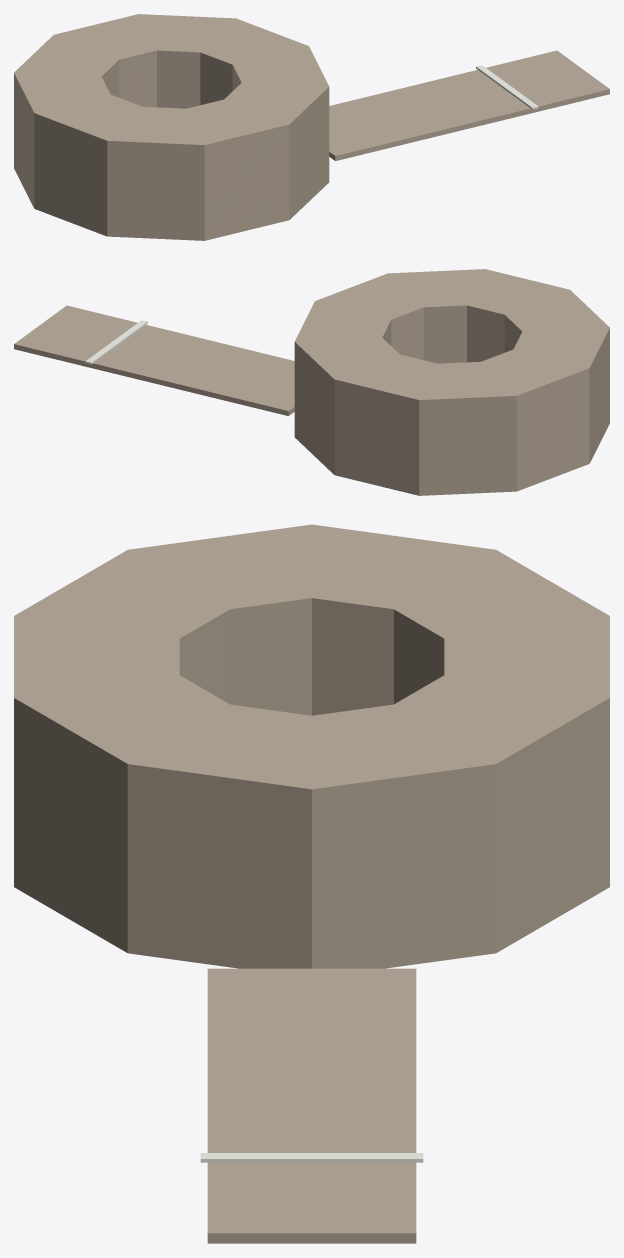
The model's file is prop-hatband-blank.fbx.
3 renders of one model, top to bottom at view 1: azimuth 30°, elevation 25°; view 2: azimuth 150°, elevation 25°; view 3: azimuth 270°, elevation 25°, orthographic. The views are drawn at different scales.
Parts seen in each view (by area): view 1: prop-hatband-blank; view 2: prop-hatband-blank; view 3: prop-hatband-blank.
Part boxes in pixels (x1,y1,x2,y2): prop-hatband-blank: (14,14,609,240); prop-hatband-blank: (14,269,609,495); prop-hatband-blank: (14,524,609,1243).
Bounding box in the file's own units: 18 × 3 × 8.56.
